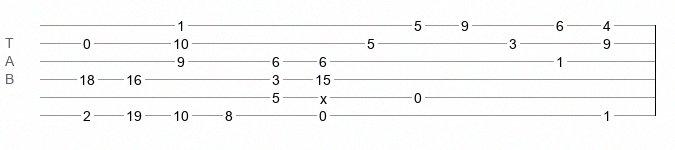0: (83, 36, 91, 46), (319, 108, 327, 118), (414, 90, 422, 100)
1: (177, 18, 185, 28), (556, 54, 564, 64), (603, 108, 611, 118)
10: (173, 108, 189, 118), (173, 36, 189, 46)
15: (315, 72, 331, 82)
16: (126, 72, 142, 82)
18: (79, 72, 95, 82)
19: (126, 108, 142, 118)
2: (83, 108, 91, 118)
3: (272, 72, 280, 82), (509, 36, 517, 46)
4: (603, 18, 611, 28)
5: (272, 90, 280, 100), (367, 36, 375, 46), (414, 18, 422, 28)
6: (272, 54, 280, 64), (319, 54, 327, 64), (556, 18, 564, 28)
8: (225, 108, 233, 118)
9: (177, 54, 185, 64), (461, 18, 469, 28), (603, 36, 611, 46)
x: (320, 91, 327, 99)
